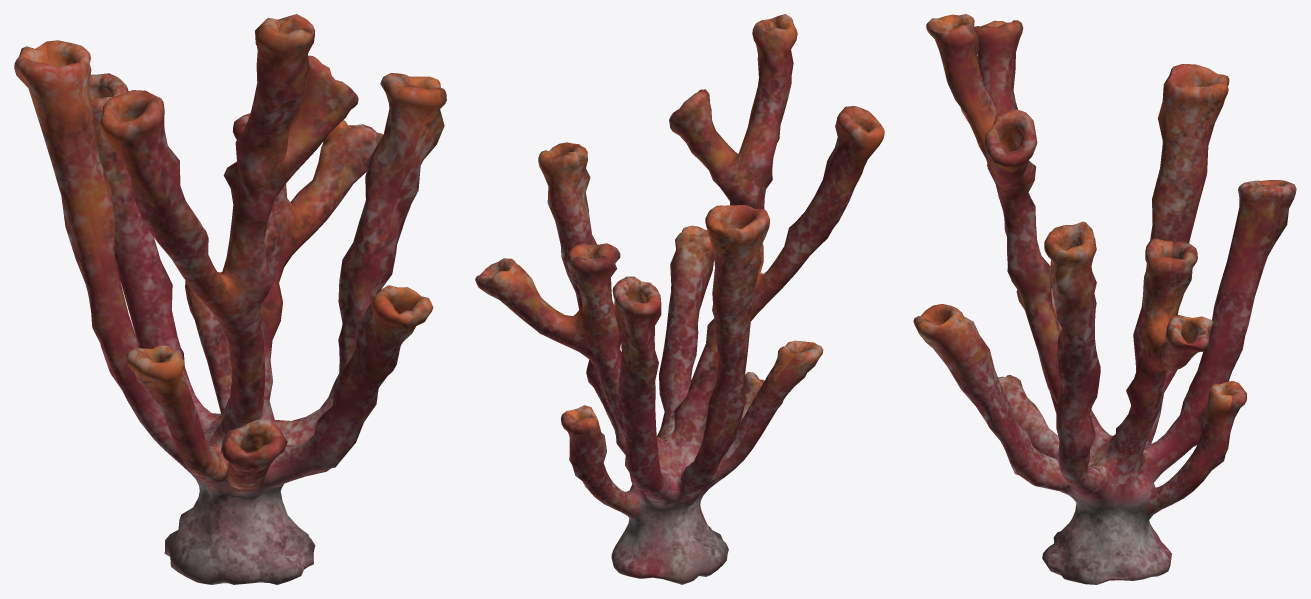
3 views of the same model, side by side, from view 1: azimuth 30°, elevation 25°; view 2: azimuth 150°, elevation 25°; view 3: azimuth 270°, elevation 25° (orthographic). The views are drawn at different scales.
Visible parts, largest first — view 1: coral_tube_01; view 2: coral_tube_01; view 3: coral_tube_01.
Part boxes in pixels (x1=…): coral_tube_01: x1=14, y1=14, x2=446, y2=584; coral_tube_01: x1=475, y1=14, x2=884, y2=584; coral_tube_01: x1=913, y1=14, x2=1296, y2=584.
Size of the model in its own units: 24.63 by 37.33 by 24.59.
Materials: 1 (1 with a texture image).
